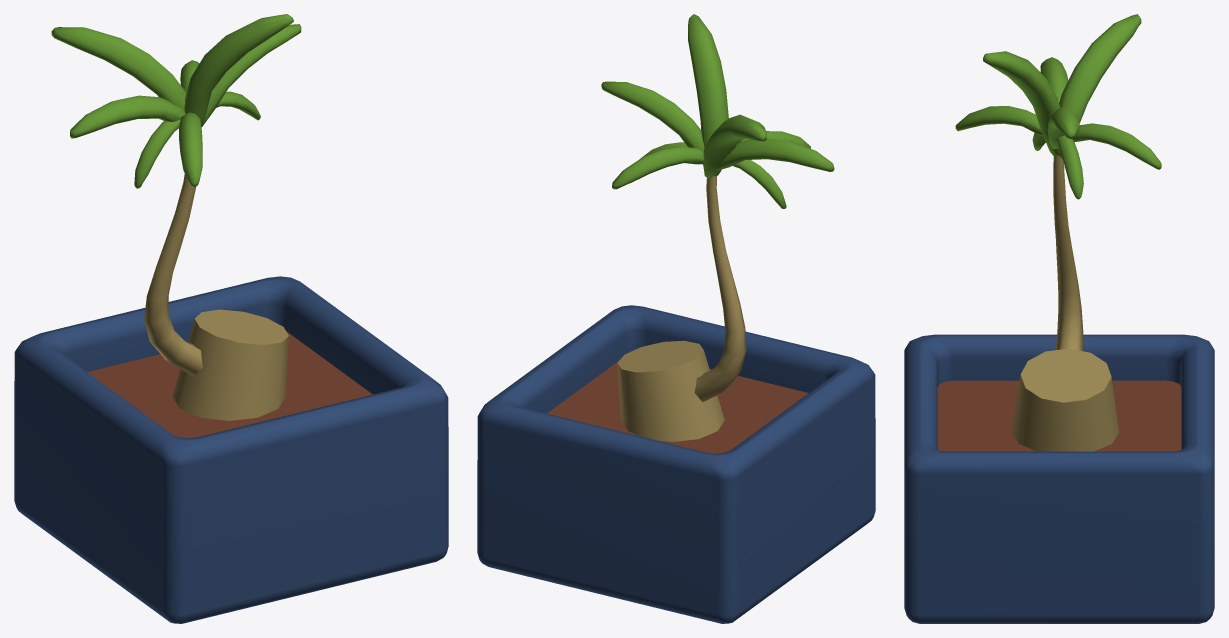
The model's file is Plant1.glb.
The picture shows the model from 3 angles, left to right: view 1: azimuth 30°, elevation 25°; view 2: azimuth 150°, elevation 25°; view 3: azimuth 270°, elevation 25°; orthographic projection. The views are drawn at different scales.
Parts seen in each view (by area): view 1: Plant1; view 2: Plant1; view 3: Plant1.
Boxes of the visible parts, box(x1,y1,x2,y2) form: Plant1: box(14, 14, 448, 623); Plant1: box(477, 14, 875, 623); Plant1: box(904, 14, 1214, 623).
Size of the model in its own units: 0.327 by 0.554 by 0.3.
1 material, 1 textured.
